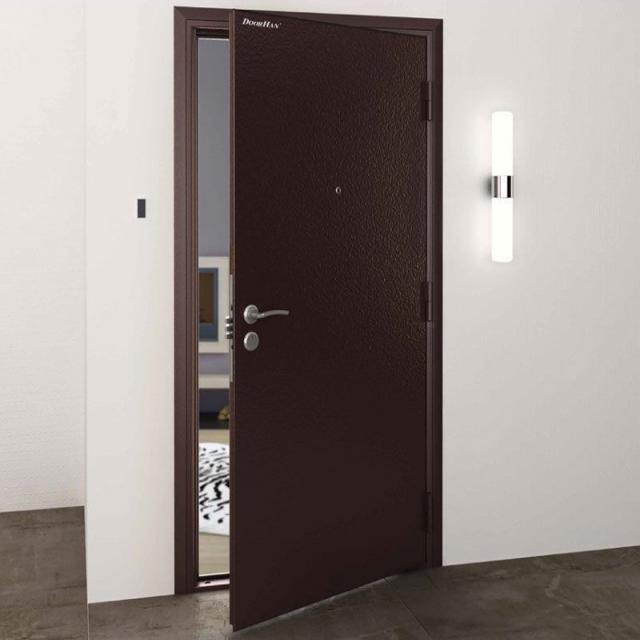open: (175, 10, 445, 609)
